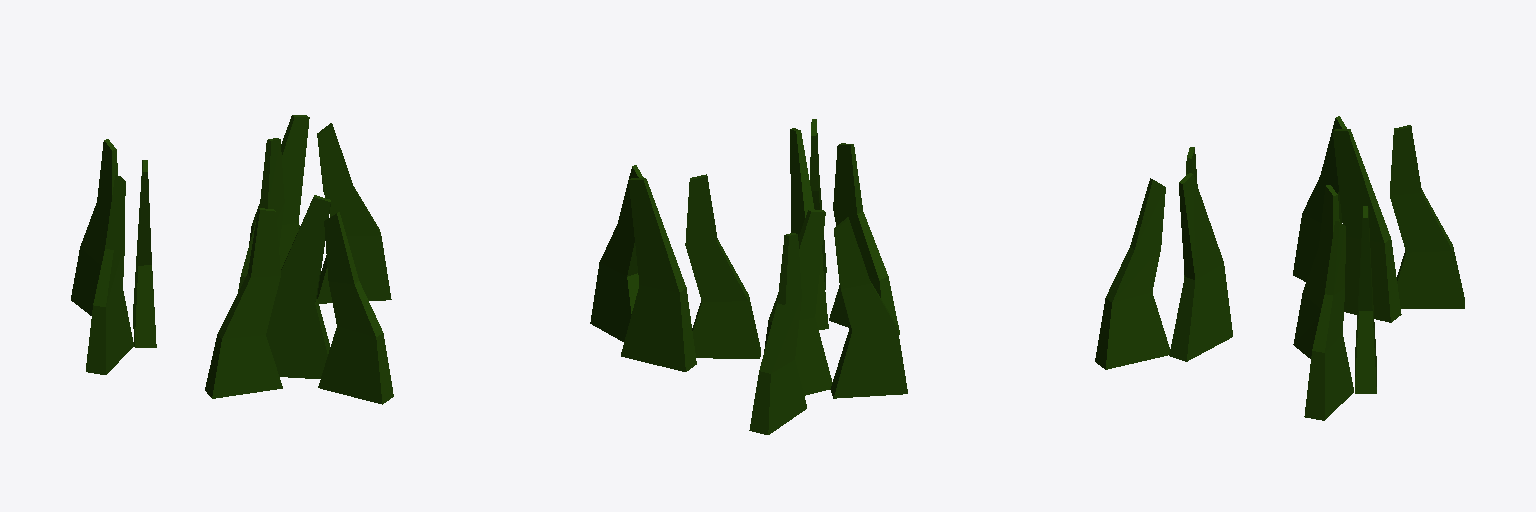
File: grassBunch.obj
3 views of the same model, side by side, from view 1: azimuth 30°, elevation 25°; view 2: azimuth 150°, elevation 25°; view 3: azimuth 270°, elevation 25° (orthographic).
Visible parts, largest first — view 1: Cube.002, Cube.013, Cube.001; view 2: Cube.001, Cube.013, Cube.002; view 3: Cube.013, Cube.002, Cube.001.
Boxes of the visible parts, <box> form: Cube.002: <box>205,195,393,404</box>; Cube.013: <box>71,139,156,374</box>; Cube.001: <box>238,115,391,303</box>; Cube.001: <box>590,165,760,371</box>; Cube.013: <box>749,210,907,434</box>; Cube.002: <box>790,119,899,334</box>; Cube.013: <box>1293,116,1464,322</box>; Cube.002: <box>1095,147,1232,369</box>; Cube.001: <box>1293,185,1376,420</box>.
Bounding box in the file's own units: 0.5688 × 0.312 × 0.5868.